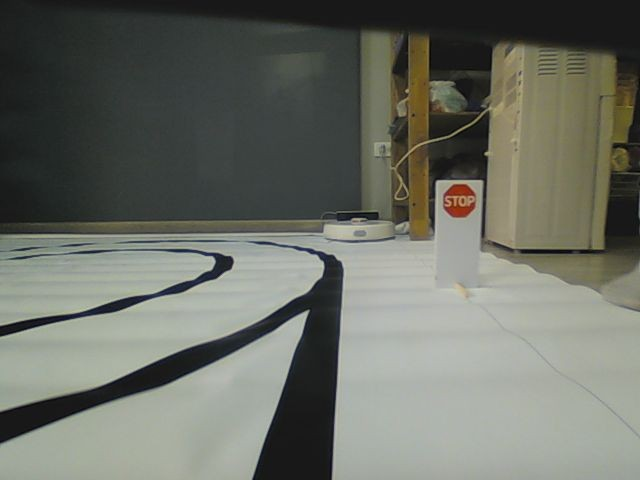Stop: (440, 183, 478, 221)
